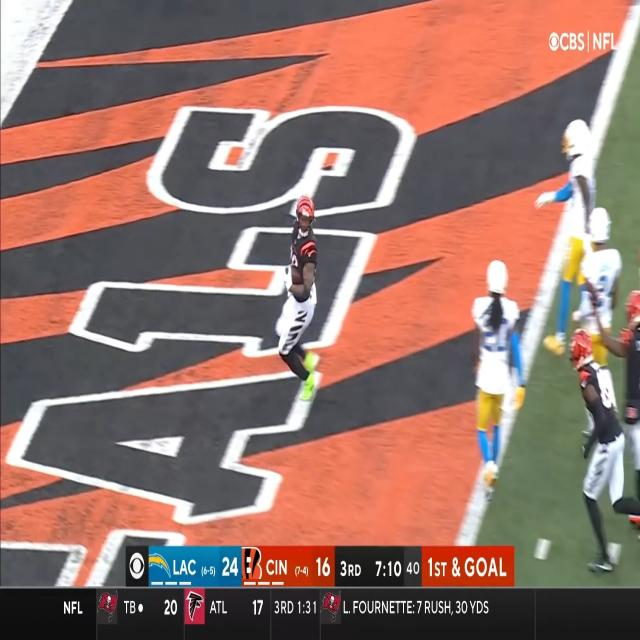football: (286, 264, 304, 287)
players: (532, 120, 596, 356), (568, 329, 626, 580), (471, 259, 526, 499), (271, 197, 325, 406), (580, 206, 622, 439)
